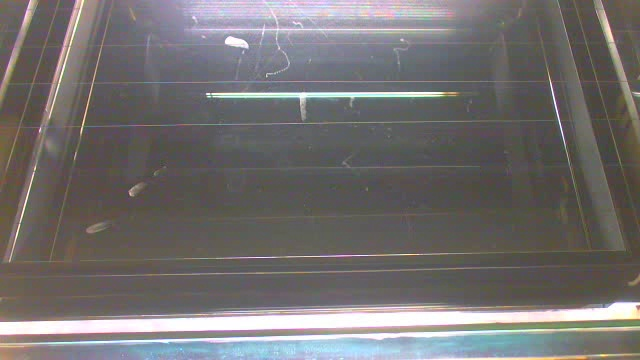Alfa: (87, 216, 117, 235), (222, 35, 251, 49), (128, 181, 149, 197)
alfa: (294, 90, 311, 122)
